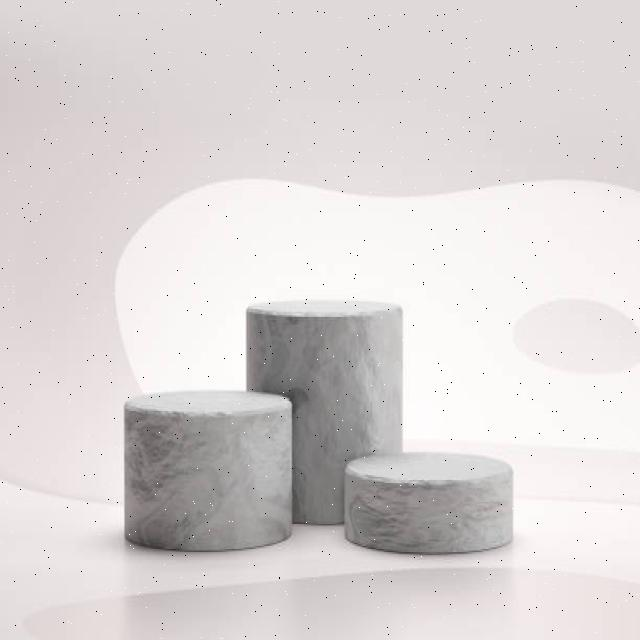Metamorphic: (244, 309, 410, 536), (121, 392, 291, 548), (346, 455, 520, 554)
